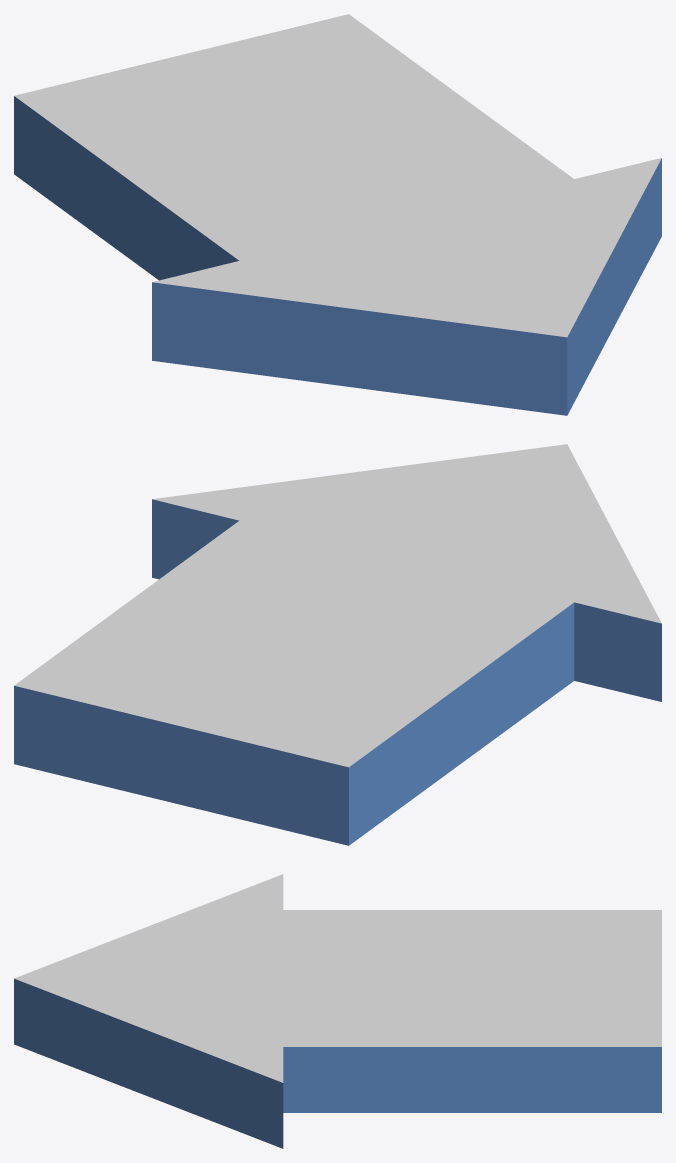
The model's file is strzalka.fbx.
3 renders of one model, top to bottom at view 1: azimuth 30°, elevation 25°; view 2: azimuth 150°, elevation 25°; view 3: azimuth 270°, elevation 25°, orthographic. The views are drawn at different scales.
Parts seen in each view (by area): view 1: Cube; view 2: Cube; view 3: Cube.
Boxes of the visible parts, left/top/right/bottom form: Cube: left=14, top=14, right=661, bottom=415; Cube: left=14, top=444, right=661, bottom=845; Cube: left=14, top=874, right=661, bottom=1148.
Size of the model in its own units: 274 by 40.34 by 359.
